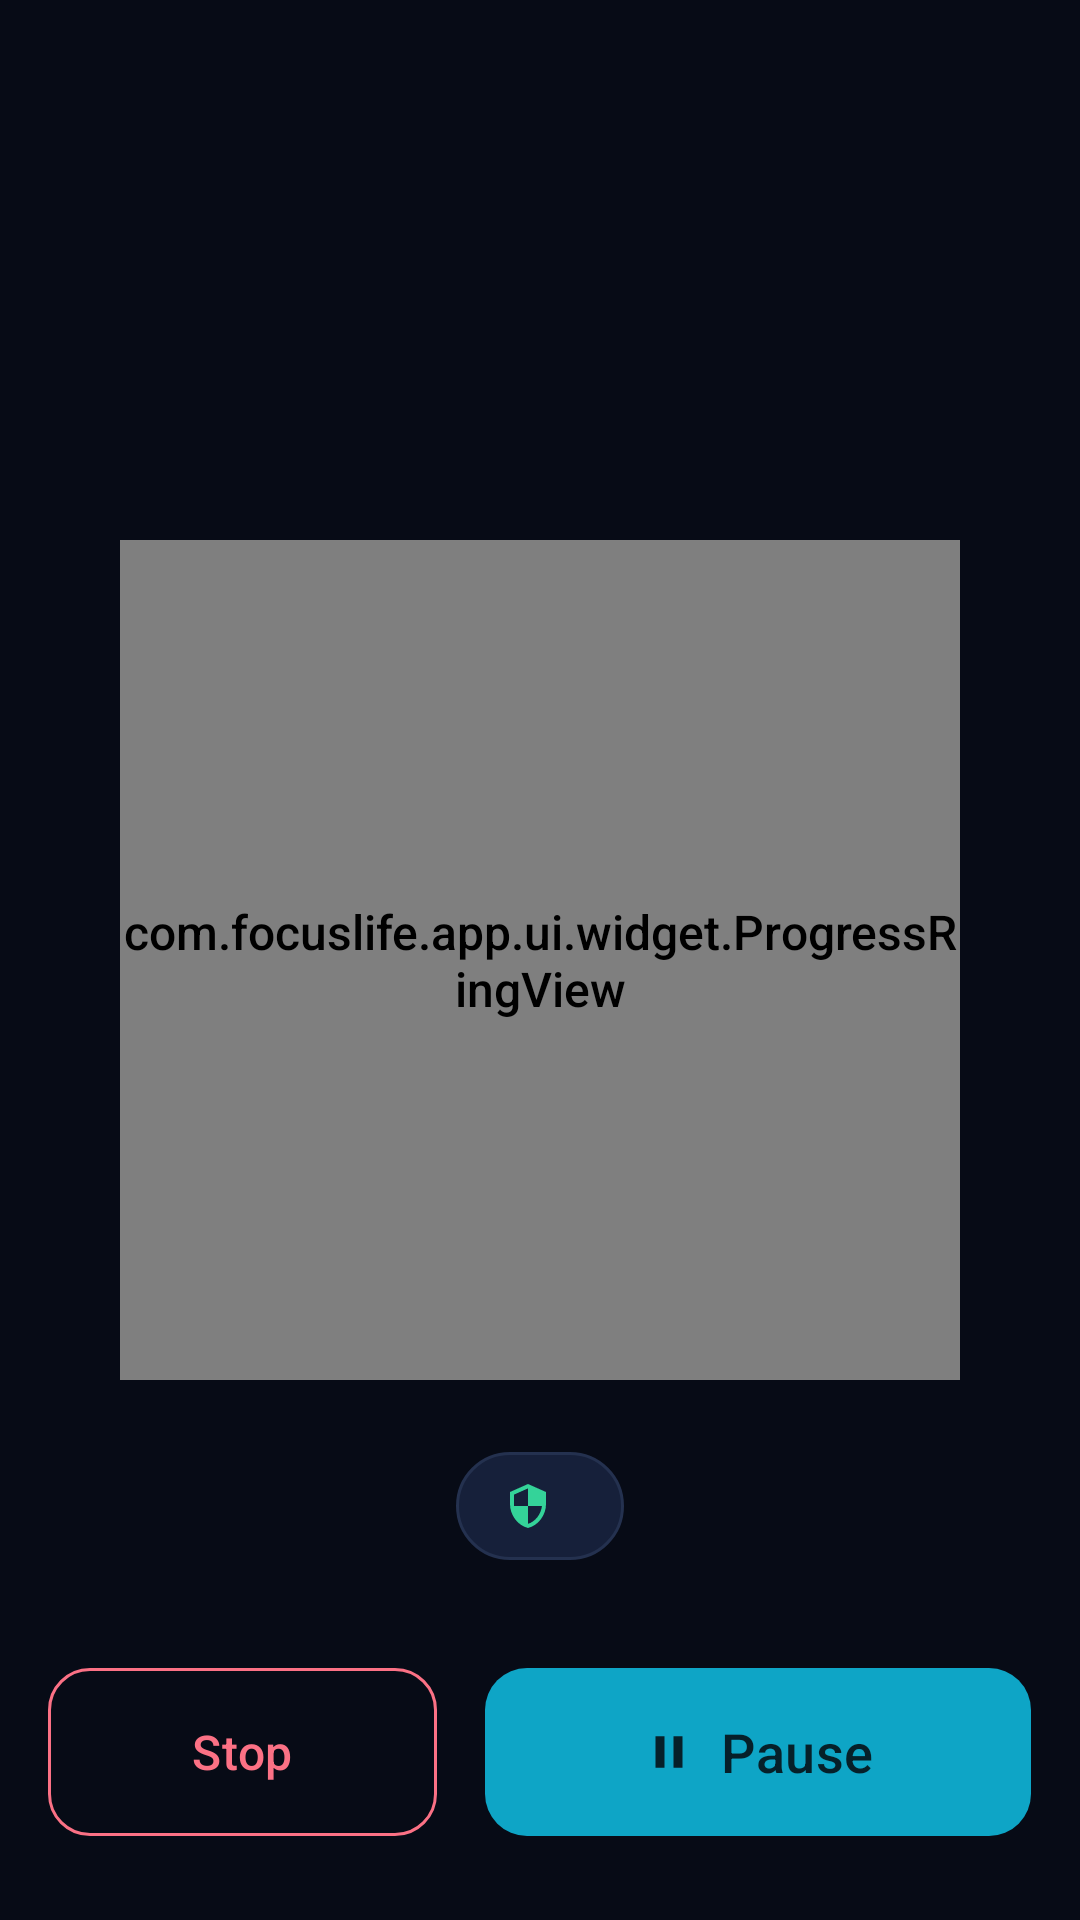

Screen size 1080w x 1920h. Icon name, then its center in pixels as point (x, y):
shield: point (528, 1506)
